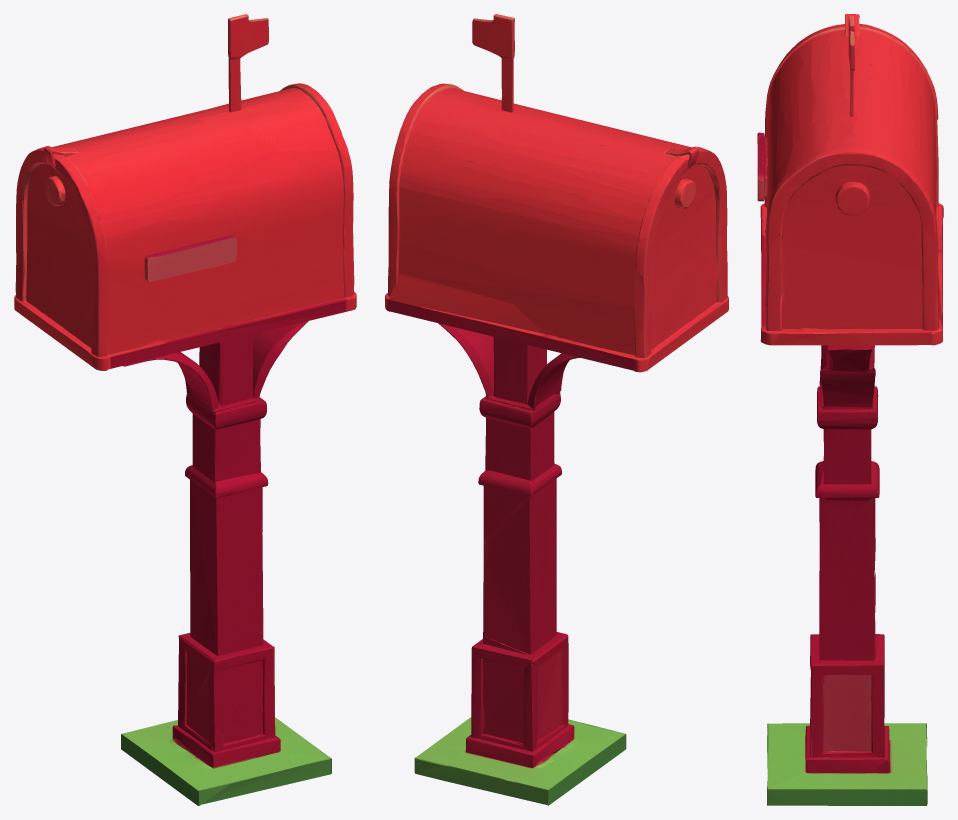
Rendered from mailbox.glb.
3 views of the same model, side by side, from view 1: azimuth 30°, elevation 25°; view 2: azimuth 150°, elevation 25°; view 3: azimuth 270°, elevation 25° (orthographic). The views are drawn at different scales.
Size of the model in its own units: 0.7276 by 1.9 by 0.4224.
1 material, 1 textured.
